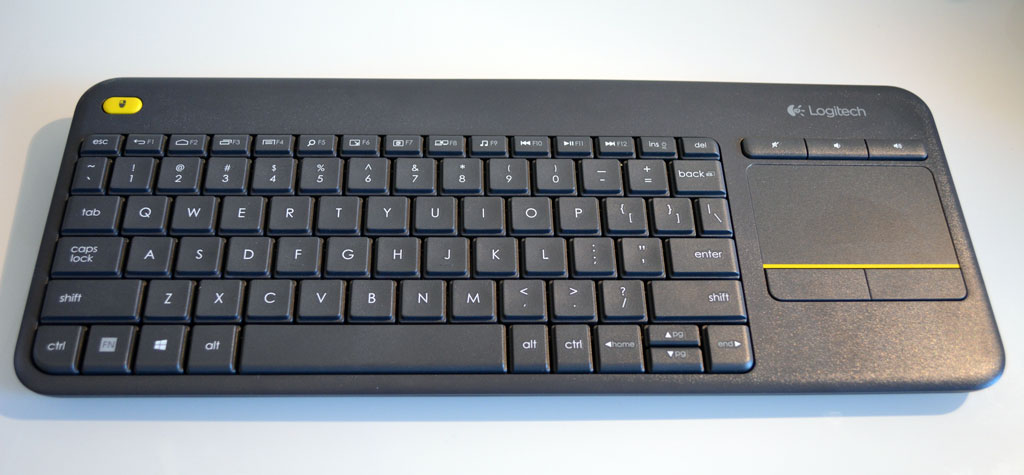logitech-keyboard-k400: (12, 92, 1001, 392)
